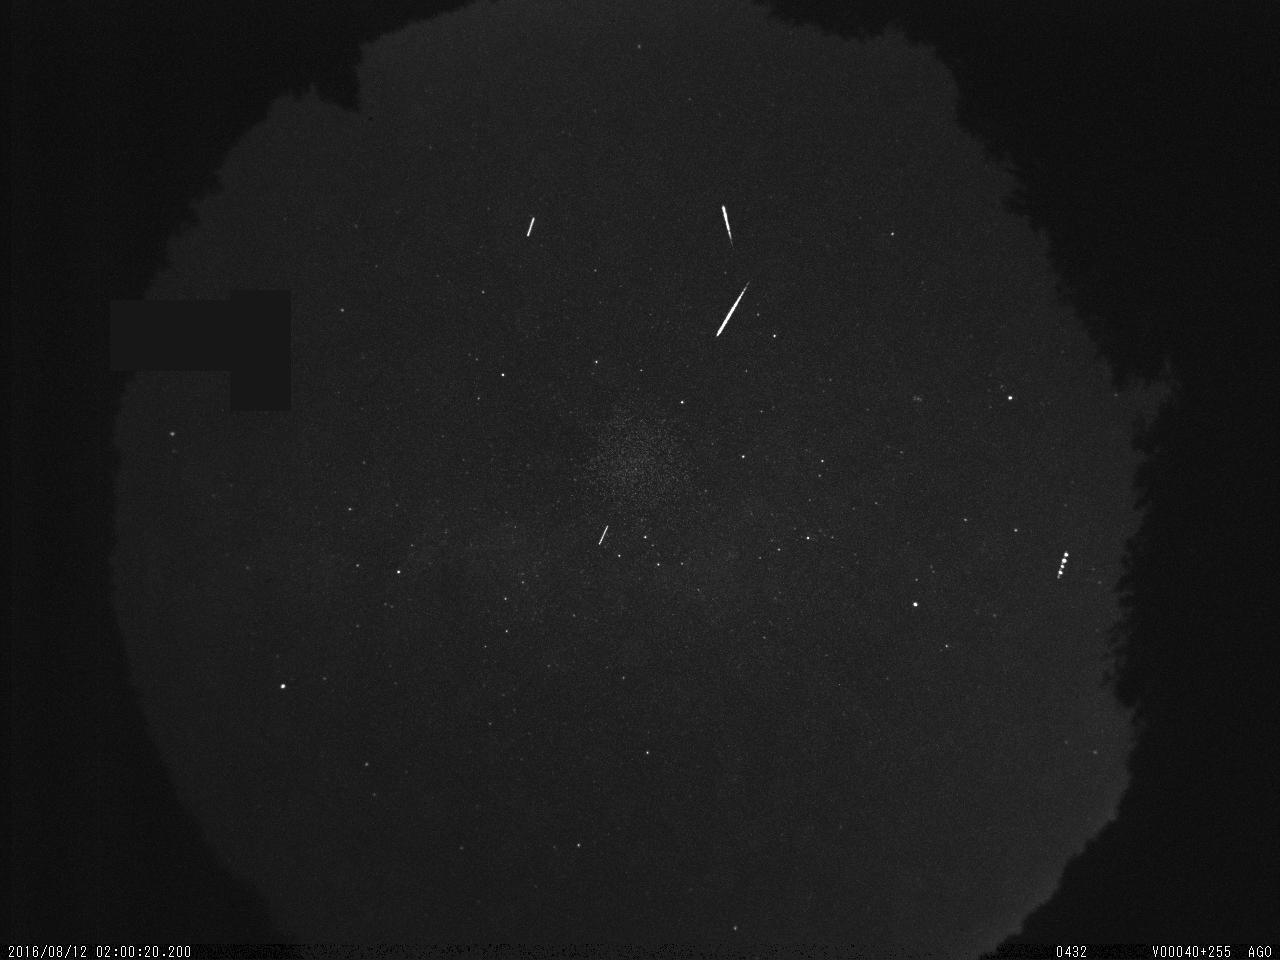meteor: (709, 276, 758, 344), (713, 201, 743, 252)
satelite: (517, 212, 545, 246), (1050, 547, 1075, 583), (594, 521, 615, 553)
